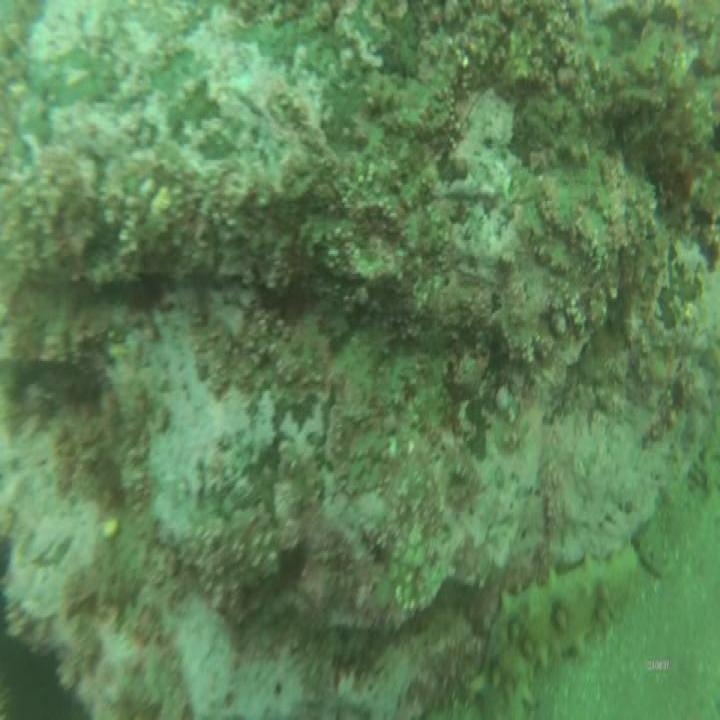holothurian: (483, 551, 638, 706)
